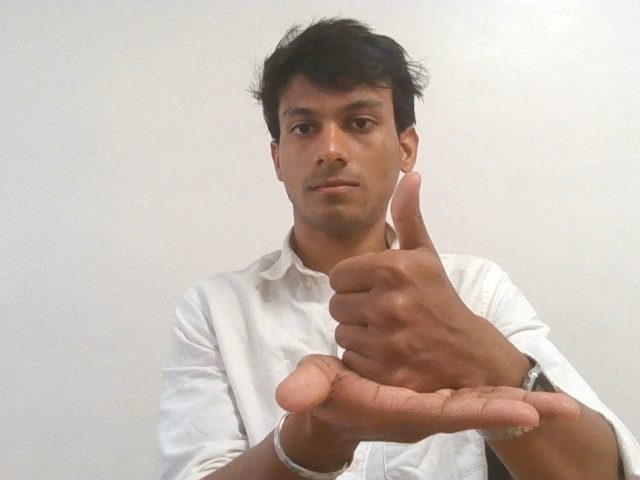Help: (268, 169, 583, 452)
